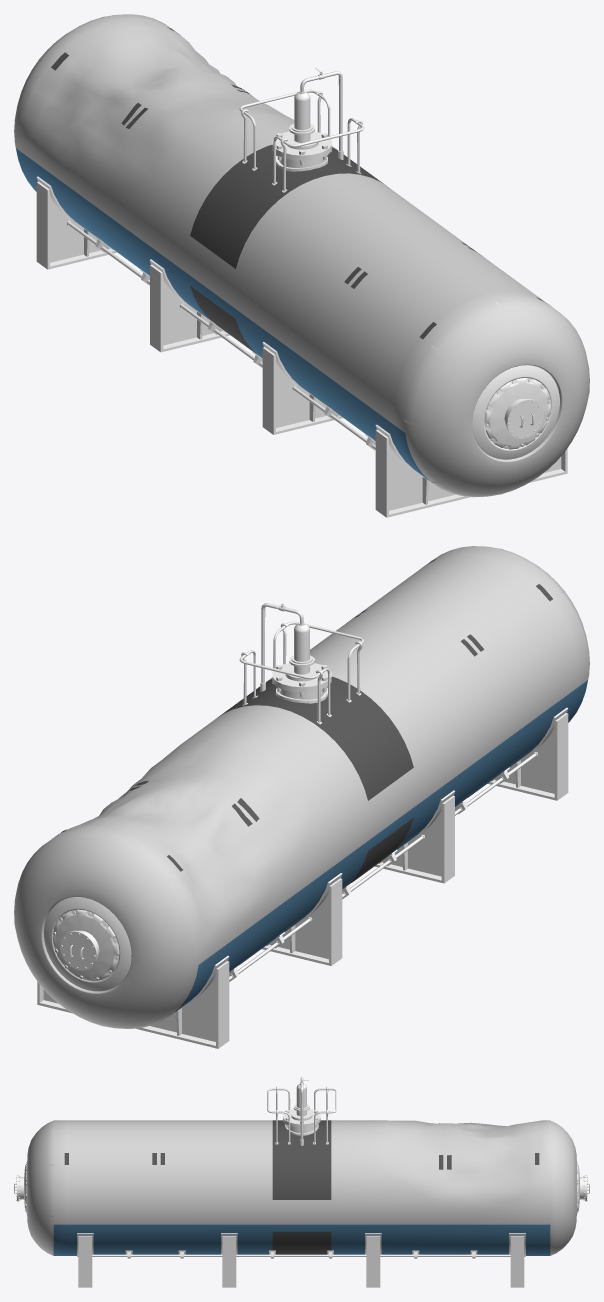
3 views of the same model, one above another, from view 1: azimuth 30°, elevation 25°; view 2: azimuth 150°, elevation 25°; view 3: azimuth 270°, elevation 25° (orthographic). The views are drawn at different scales.
Visible parts, largest first — view 1: SM_H_Industrial_Mechanical_MetalSilo_02_Ruin_b; view 2: SM_H_Industrial_Mechanical_MetalSilo_02_Ruin_b; view 3: SM_H_Industrial_Mechanical_MetalSilo_02_Ruin_b.
Part boxes in pixels (left/top/right/bottom): SM_H_Industrial_Mechanical_MetalSilo_02_Ruin_b: left=14, top=14, right=589, bottom=517; SM_H_Industrial_Mechanical_MetalSilo_02_Ruin_b: left=14, top=546, right=589, bottom=1048; SM_H_Industrial_Mechanical_MetalSilo_02_Ruin_b: left=14, top=1077, right=589, bottom=1287.
Size of the model in its own units: 716 by 169 by 254.
